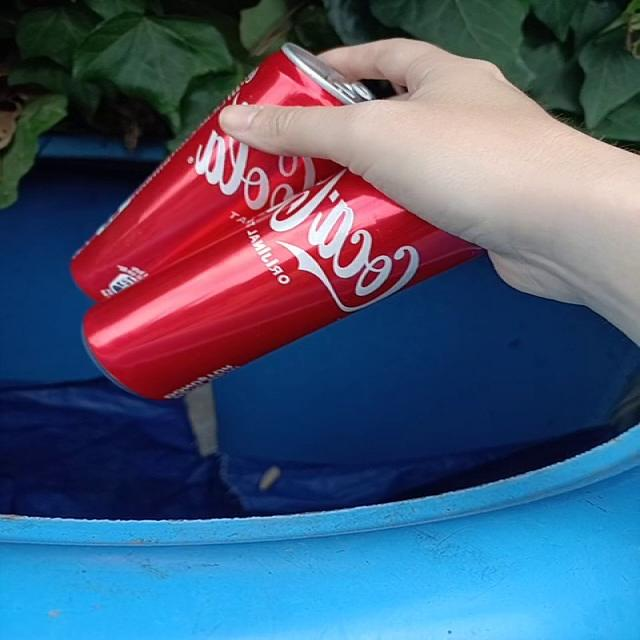bin: (0, 137, 639, 640)
metal: (71, 112, 481, 400), (224, 44, 371, 106)
